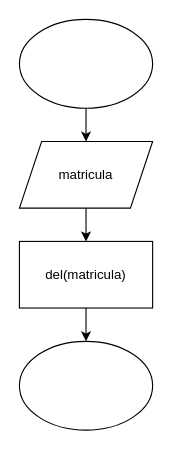
The diagram is 172 pixels wide and 450 high, and some of its shapes have lost their labels. The shapes that lost their labels are listed below. From the top down, each one's centre as x and y in pixels, then its label:
At (x=85, y=63): "Inicio".
At (x=85, y=385): "Fin".
